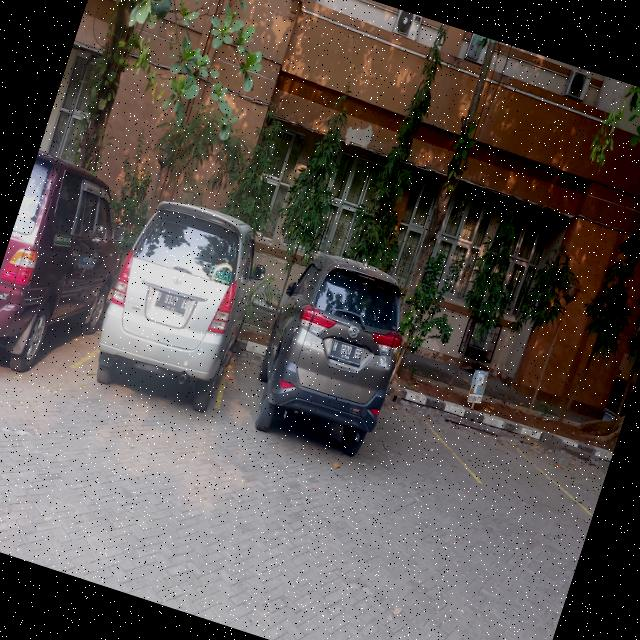empty: (416, 411, 591, 514), (375, 401, 481, 484)
occupied: (75, 195, 255, 409), (218, 254, 400, 460), (0, 153, 120, 376)
